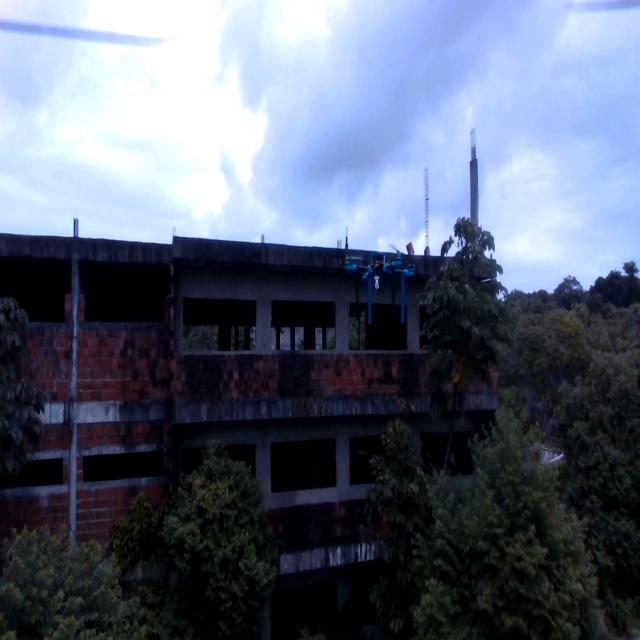-uav-: (336, 231, 437, 347)
